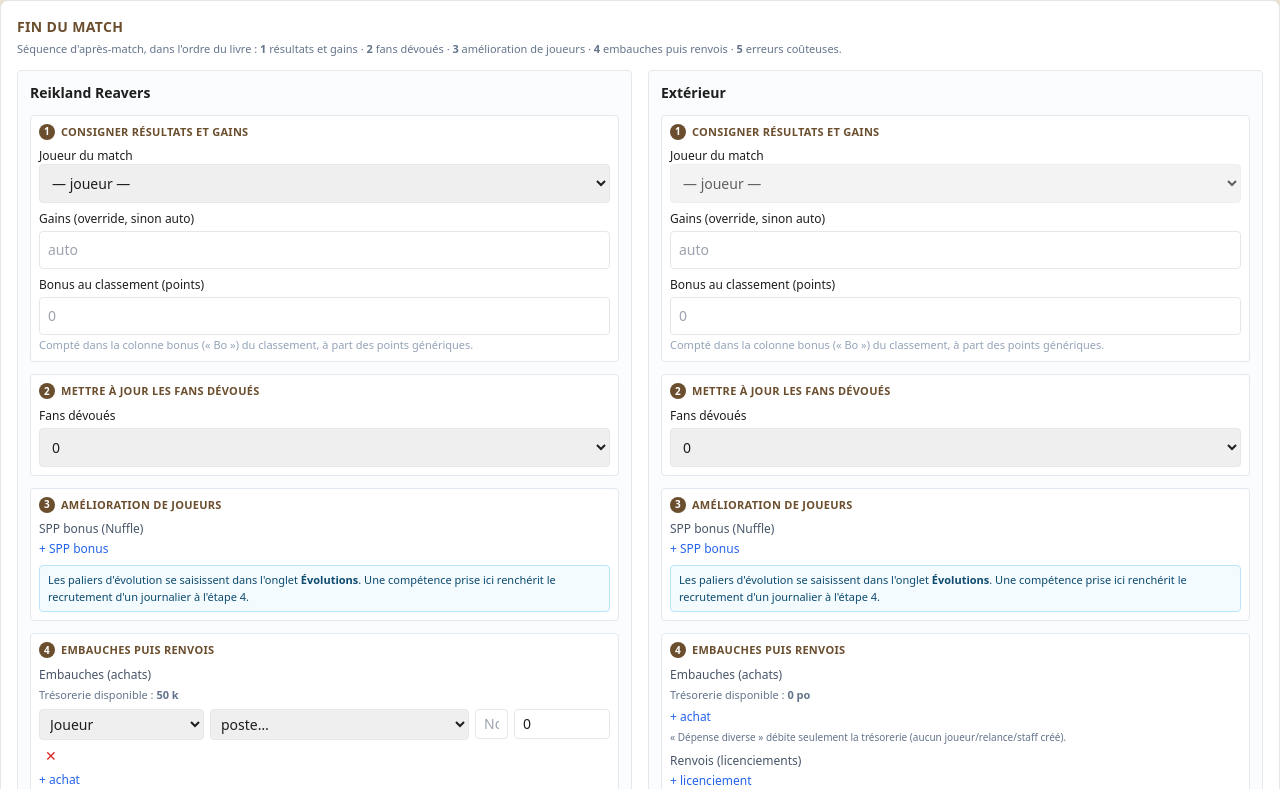
Test: PostMatchPanel — catalogue d'embauche (E46/E47) › remplit le prix d'APRÈS-MATCH d'une relance (× 2)
Select "Relance" in the dropdown with test id "purchases-home-kind-0": (122, 724) [39,708,204,740]
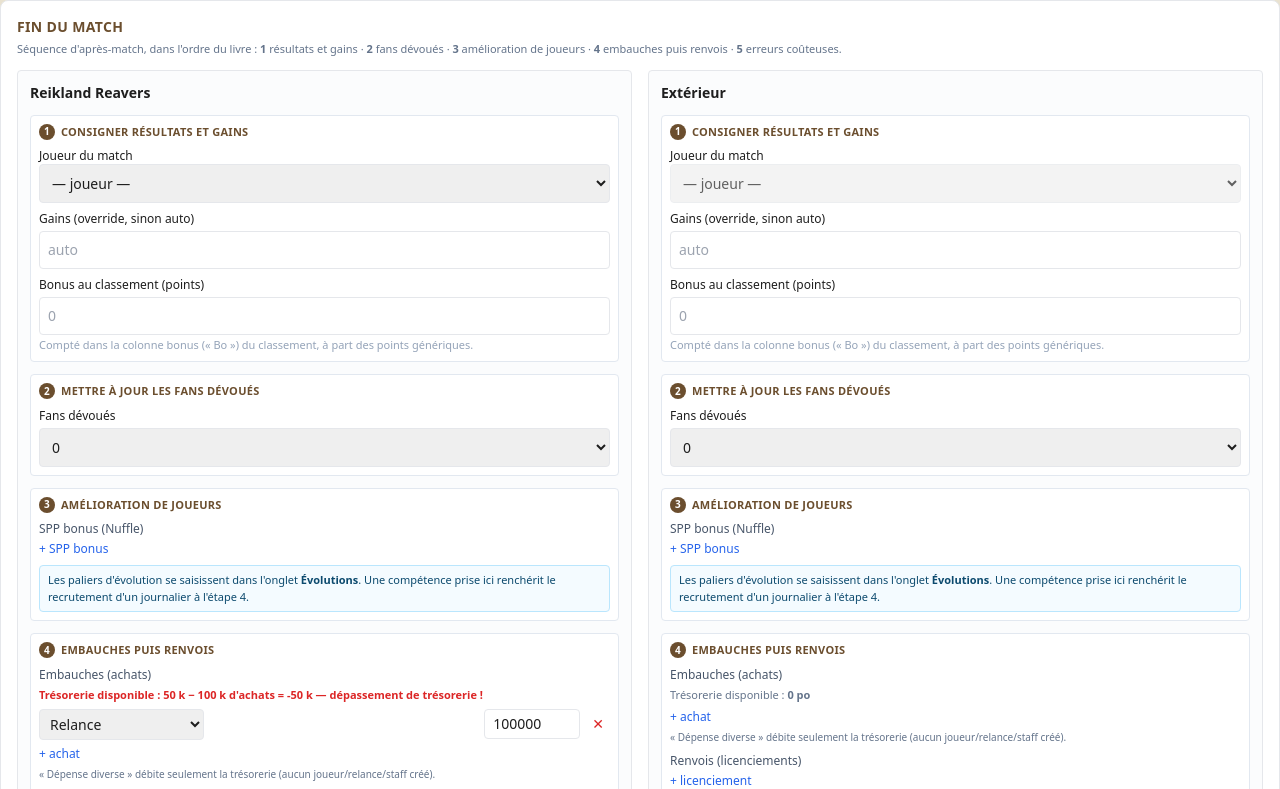
Expected: the number field with test id "purchases-home-cost-0" holds "100000", [484,709,580,739]
